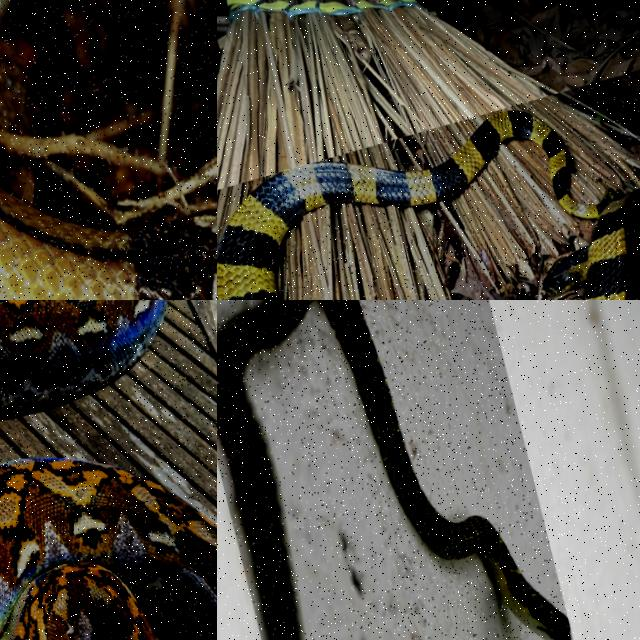Bungarus fasciatus: (217, 112, 639, 299)
Calliophis maculiceps: (0, 188, 216, 299)
Chrysopelea ornata: (318, 300, 569, 639)
Malayopython reticulatus: (0, 459, 216, 639)
